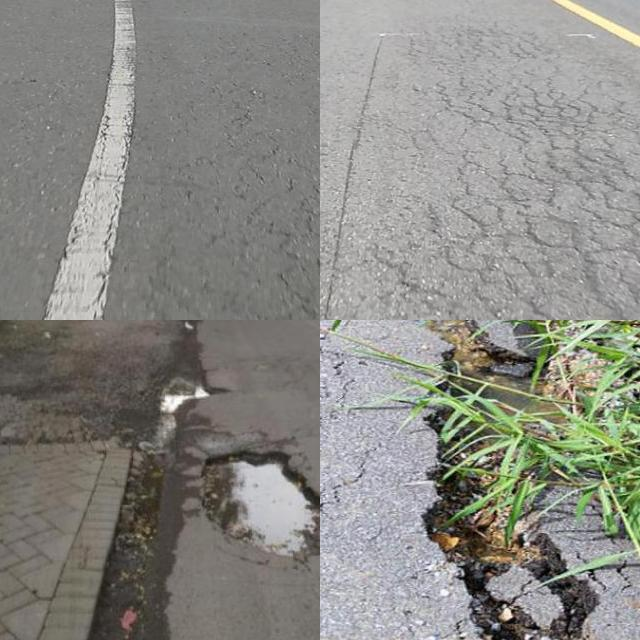Lubang: (203, 443, 320, 562)
Pinggir: (366, 320, 630, 640)
Retak Buaya: (385, 33, 640, 320)
